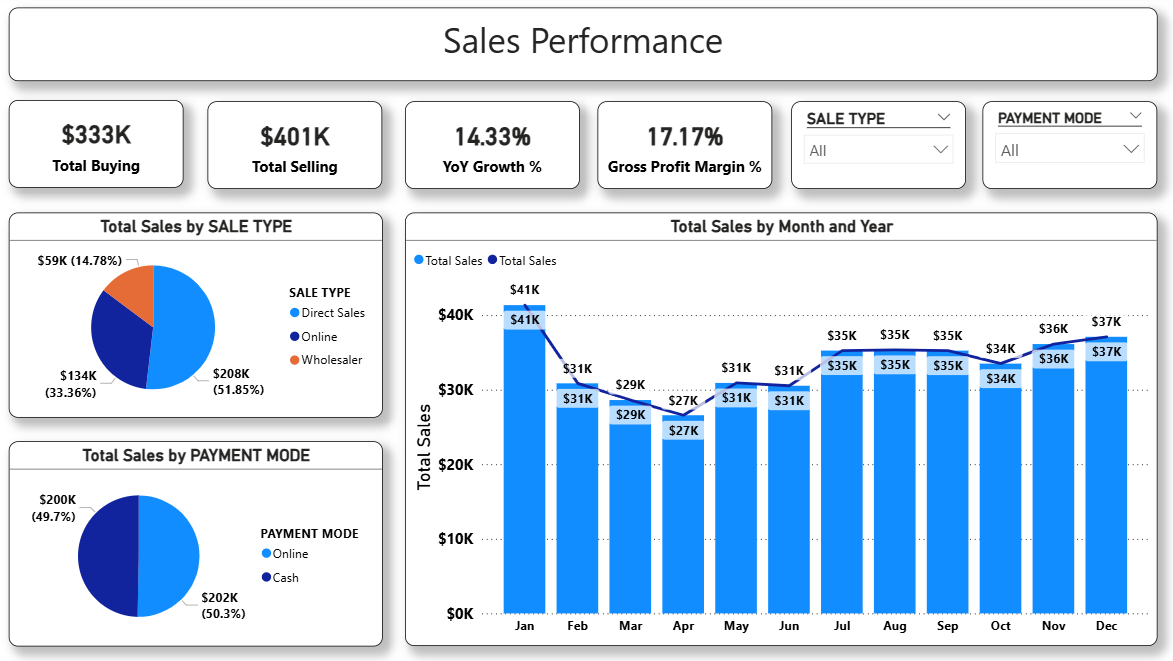

The page's visual inventory and layout, read from the dashboard file:
{"tool":"powerbi","page":{"name":"Sales Performance","canvas":[1280,720],"ordinal":1},"visuals":[{"type":"lineClusteredColumnComboChart","title":"Total Sales by Month and Year","fields":{"Category":["DateTable.Month"],"Y2":["KPI Measures.Total Sales"],"Y":["KPI Measures.Total Sales"]},"box":[446.5,234,809.6,466.7],"z":0},{"type":"slicer","fields":{"Values":["InputData.SALE TYPE"]},"box":[862,114.3,188.3,94.1],"z":1000},{"type":"slicer","fields":{"Values":["InputData.PAYMENT MODE"]},"box":[1067.8,114.3,188.3,94.1],"z":2000},{"type":"pieChart","fields":{"Category":["InputData.SALE TYPE"],"Y":["KPI Measures.Total Sales"]},"box":[20.2,234,402.1,220.6],"z":4000},{"type":"pieChart","fields":{"Category":["InputData.PAYMENT MODE"],"Y":["KPI Measures.Total Sales"]},"box":[20.2,480.1,402.1,220.6],"z":5000},{"type":"textbox","box":[20.2,13.4,1235.9,79.3],"z":7000},{"type":"card","title":"Total Sales by Month and Year","fields":{"Values":["KPI Measures.YoY Growth %"]},"box":[446.5,114.3,188.3,94.1],"z":8000},{"type":"card","fields":{"Values":["KPI Measures.Gross Profit Margin %"]},"box":[653.6,114.3,188.3,94.1],"z":9000},{"type":"card","title":"Total Sales by Month and Year","fields":{"Values":["KPI Measures.Total Buying"]},"box":[20.2,113,188.3,94.1],"z":10000},{"type":"card","title":"Total Sales by Month and Year","fields":{"Values":["KPI Measures.Total Selling"]},"box":[234,114.3,188.3,94.1],"z":11000}]}

Visuals, with their boxes in screenshot pixels (x1, y1, x2, y2), scaled from the page's 1280x720 canvas onto the 1173x661 screenshot:
"Total Sales by Month and Year" lineClusteredColumnComboChart: 409, 215, 1151, 643
slicer - InputData.SALE TYPE: 790, 105, 963, 191
slicer - InputData.PAYMENT MODE: 979, 105, 1151, 191
pieChart - InputData.SALE TYPE x KPI Measures.Total Sales: 19, 215, 387, 417
pieChart - InputData.PAYMENT MODE x KPI Measures.Total Sales: 19, 441, 387, 643
textbox: 19, 12, 1151, 85
"Total Sales by Month and Year" card: 409, 105, 582, 191
card - KPI Measures.Gross Profit Margin %: 599, 105, 772, 191
"Total Sales by Month and Year" card: 19, 104, 191, 190
"Total Sales by Month and Year" card: 214, 105, 387, 191
